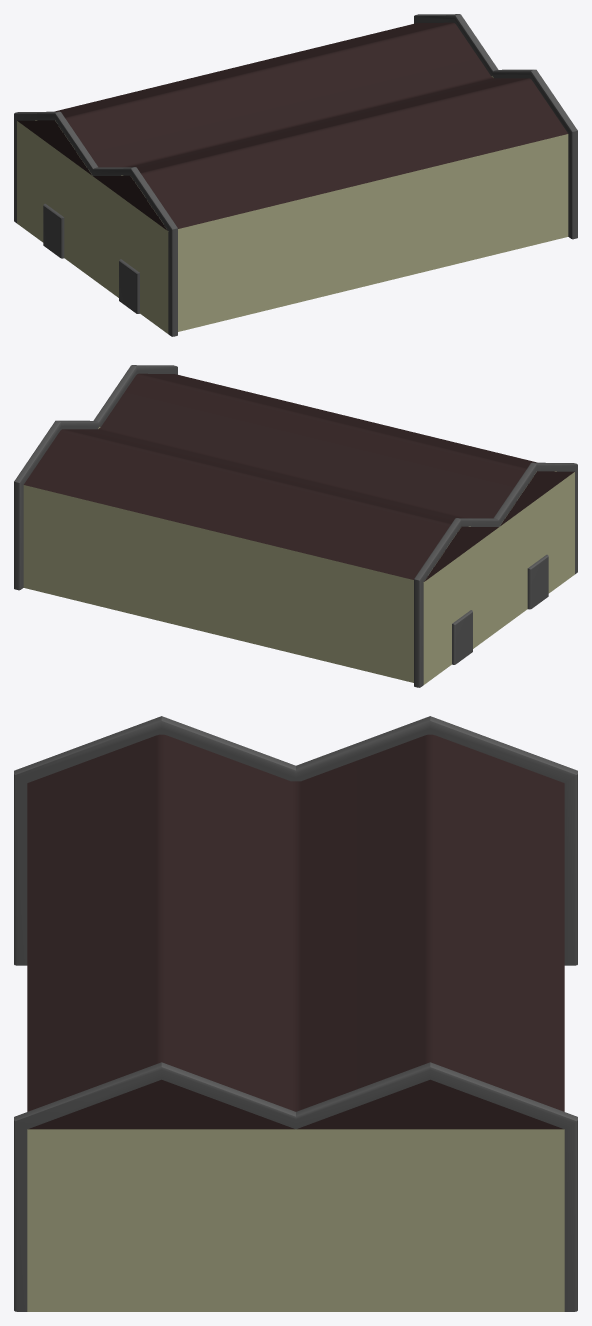
3 renders of one model, top to bottom at view 1: azimuth 30°, elevation 25°; view 2: azimuth 150°, elevation 25°; view 3: azimuth 270°, elevation 25°, orthographic. The views are drawn at different scales.
Visible parts, largest first — view 1: pCube1, pCube2, pCube3; view 2: pCube1, pCube3, pCube2; view 3: pCube1.
Part boxes in pixels (<box>): pCube1: <box>14,14,577,336</box>; pCube2: <box>43,203,64,258</box>; pCube3: <box>119,259,139,313</box>; pCube1: <box>14,365,577,687</box>; pCube3: <box>527,554,548,609</box>; pCube2: <box>452,610,472,664</box>; pCube1: <box>14,716,577,1311</box>.
Bounding box in the file's own units: 6.24 × 2.02 × 4.2.
